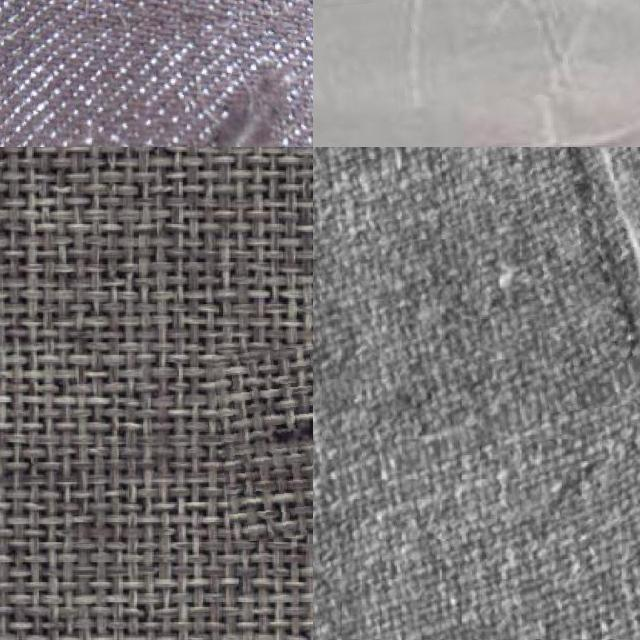Thread_other: (216, 336, 313, 537)
stains: (0, 21, 313, 147), (313, 0, 640, 111), (526, 147, 640, 408)
